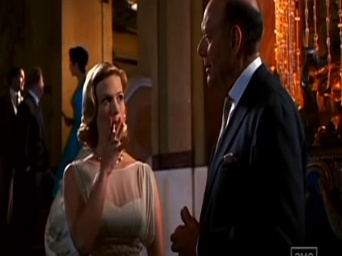smoke: (112, 122, 116, 133)
